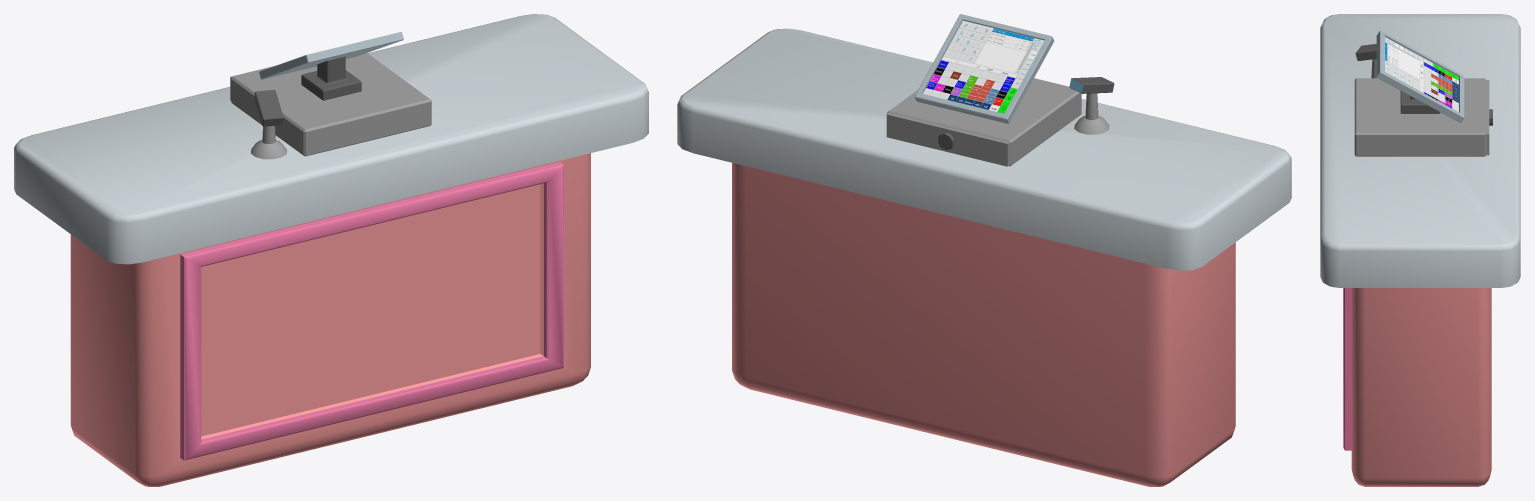
The model's file is Cashier.fbx.
3 views of the same model, side by side, from view 1: azimuth 30°, elevation 25°; view 2: azimuth 150°, elevation 25°; view 3: azimuth 270°, elevation 25° (orthographic). The views are drawn at different scales.
Parts seen in each view (by area): view 1: Cashier; view 2: Cashier; view 3: Cashier.
Part boxes in pixels (x1,y1,x2,y2): Cashier: (14,14,648,486); Cashier: (677,14,1291,486); Cashier: (1320,14,1520,486).
Size of the model in its own units: 2.64 by 1.81 by 0.954.
